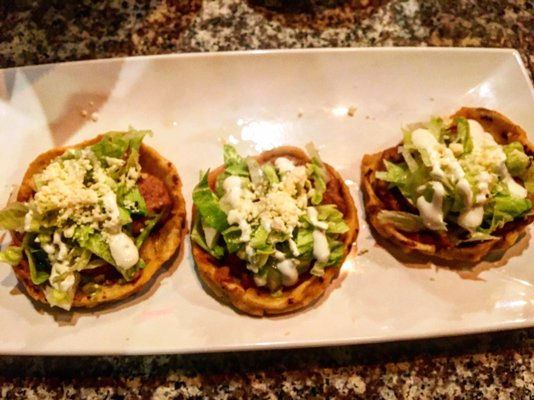soup: (0, 129, 188, 314), (189, 139, 360, 317), (359, 107, 534, 270)
